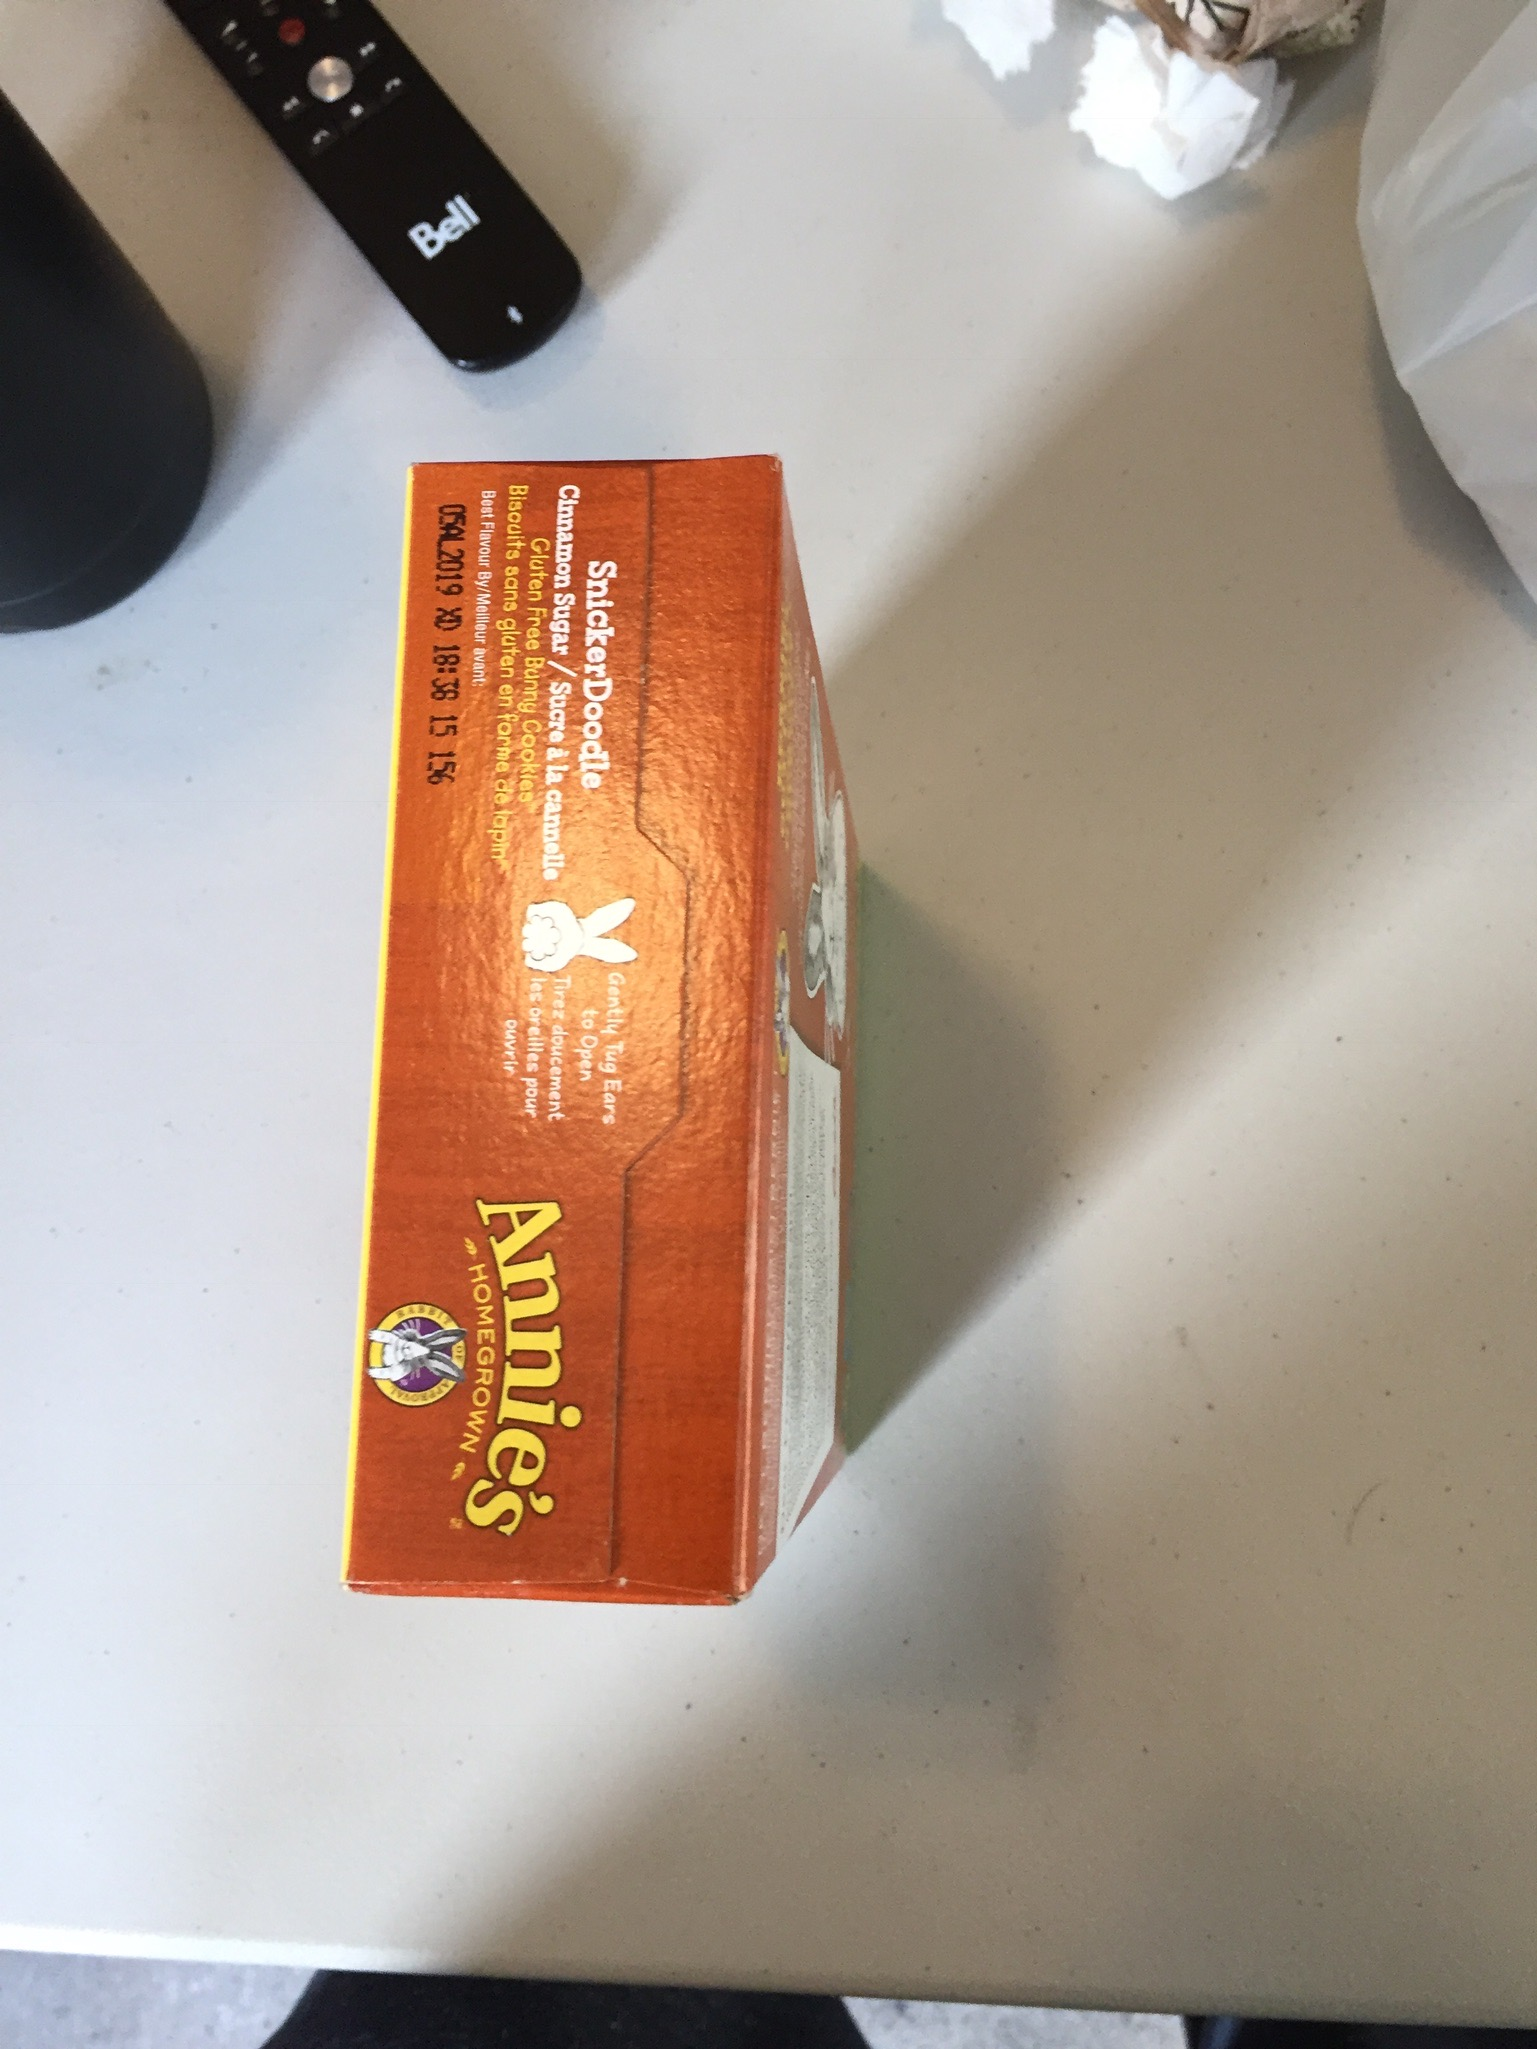annies_snickerdoodles_cinnamon_sugar: (412, 473, 744, 1576)
